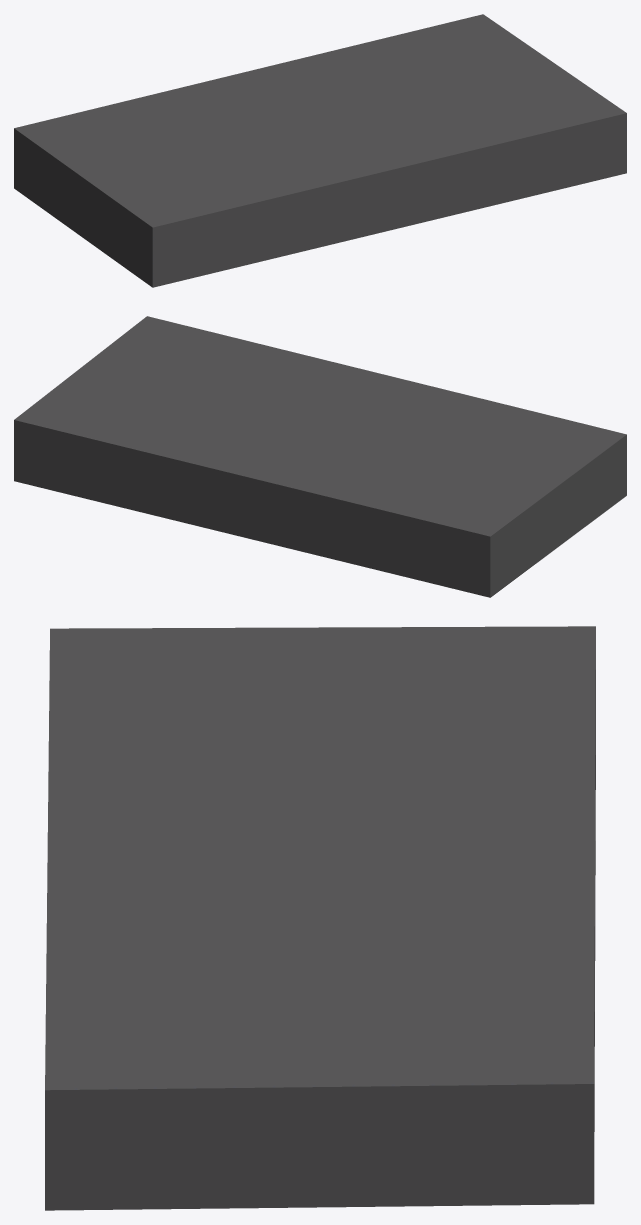
The model's file is Прямоугольная дорога.fbx.
3 views of the same model, one above another, from view 1: azimuth 30°, elevation 25°; view 2: azimuth 150°, elevation 25°; view 3: azimuth 270°, elevation 25° (orthographic). The views are drawn at different scales.
Parts seen in each view (by area): view 1: root; view 2: root; view 3: root.
Boxes of the visible parts, bbox=[...] form: root: bbox=[14, 14, 626, 287]; root: bbox=[14, 316, 626, 597]; root: bbox=[45, 626, 595, 1210].
Size of the model in its own units: 1.04 by 0.1265 by 0.5246.
Materials: 1 (1 with a texture image).
